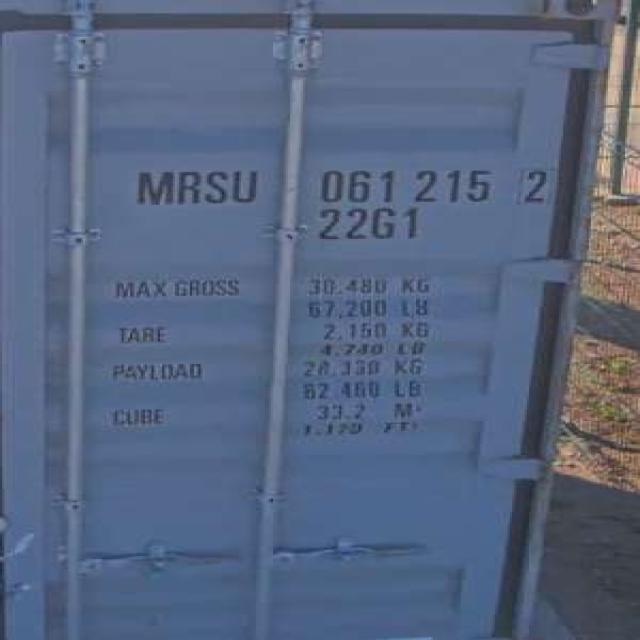dv: (512, 164, 554, 208)
owner: (124, 160, 260, 210)
serial: (309, 160, 495, 208)
size: (310, 203, 424, 244)
